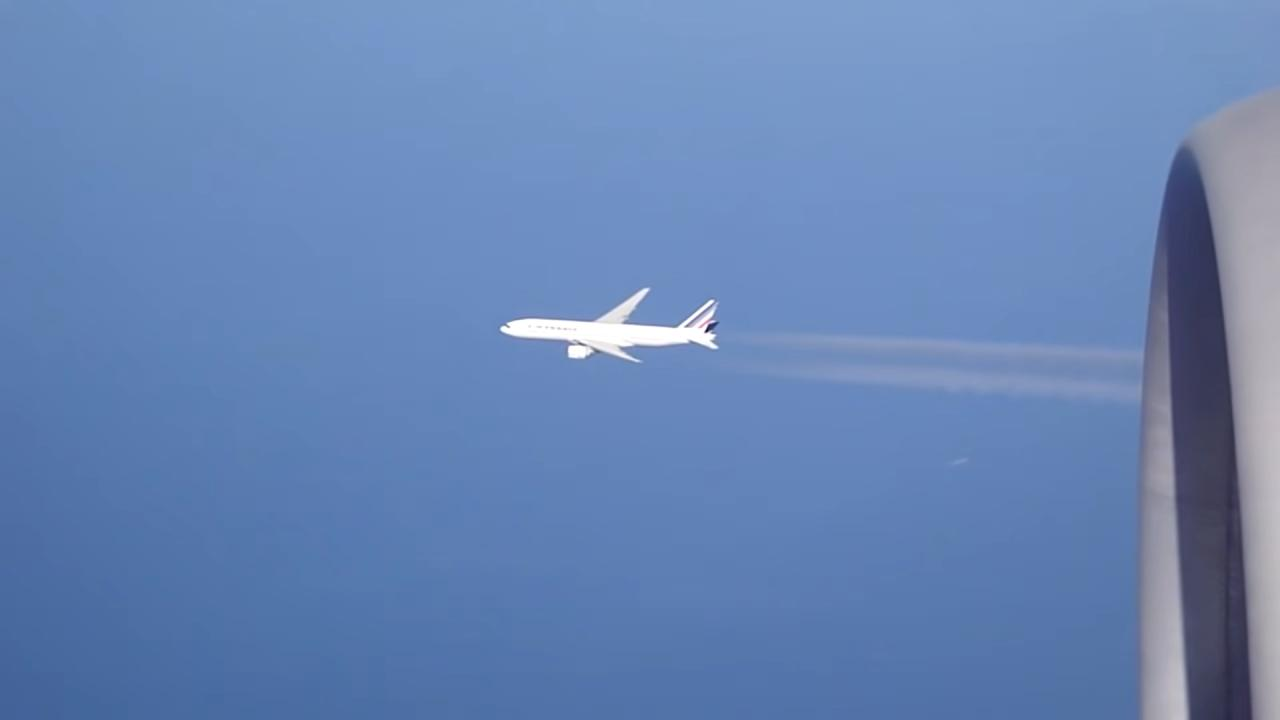Airplane: (490, 279, 742, 375)
